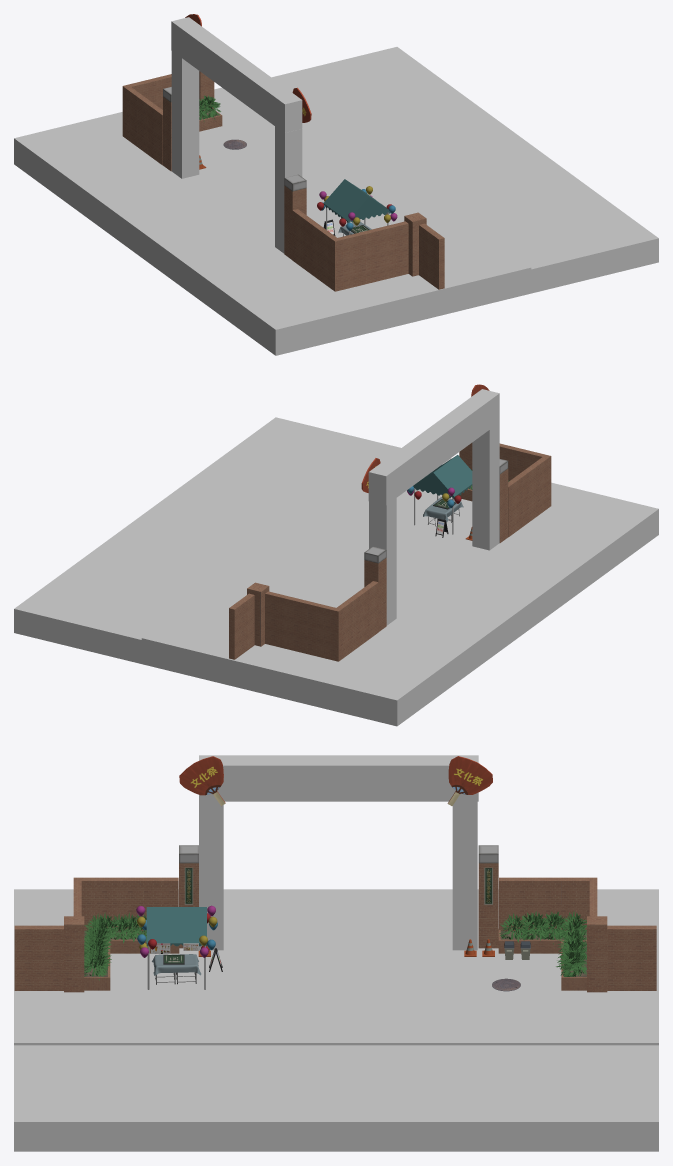
The model's file is school page07.fbx.
3 renders of one model, top to bottom at view 1: azimuth 30°, elevation 25°; view 2: azimuth 150°, elevation 25°; view 3: azimuth 270°, elevation 25°, orthographic. The views are drawn at different scales.
Parts seen in each view (by area): view 1: Cube.096, Cube.028, Cube.004, Cube.026, Cube.017, Cube.020, Cube.025, Cube.006, Cube.041, Cube, Cube.021, Cube.034 (+1 smaller); view 2: Cube.096, Cube.028, Cube.021, Cube.025, Cube.020, Cube.017, Cube.026, Cube.006, Cube.035, Cube.004, Cube.018, Cube.024 (+1 smaller); view 3: Cube.096, Cube.028, Cube.020, Cube.026, Cube.017, Cube.035, Cube.041, Cube.025, Cube.006, Cube.018, Cube.024, Cube.034 (+7 smaller).
Part boxes in pixels (x1=…): Cube.096: x1=14, y1=47, x2=658, y2=355; Cube.028: x1=171, y1=17, x2=302, y2=132; Cube.004: x1=332, y1=221, x2=408, y2=291; Cube.026: x1=171, y1=51, x2=199, y2=178; Cube.017: x1=292, y1=209, x2=336, y2=289; Cube.020: x1=123, y1=86, x2=162, y2=165; Cube.025: x1=275, y1=126, x2=302, y2=253; Cube.006: x1=323, y1=179, x2=390, y2=222; Cube.041: x1=419, y1=223, x2=444, y2=289; Cube: x1=284, y1=186, x2=306, y2=259; Cube.021: x1=122, y1=74, x2=171, y2=135; Cube.034: x1=404, y1=212, x2=426, y2=276; Cube.096: x1=14, y1=417, x2=658, y2=726; Cube.028: x1=368, y1=389, x2=499, y2=505; Cube.021: x1=265, y1=591, x2=340, y2=661; Cube.025: x1=472, y1=422, x2=499, y2=550; Cube.020: x1=334, y1=581, x2=378, y2=661; Cube.017: x1=508, y1=457, x2=547, y2=537; Cube.026: x1=369, y1=498, x2=396, y2=625; Cube.006: x1=413, y1=455, x2=472, y2=498; Cube.035: x1=229, y1=593, x2=254, y2=659; Cube.004: x1=499, y1=443, x2=551, y2=507; Cube.018: x1=364, y1=558, x2=386, y2=631; Cube.024: x1=247, y1=582, x2=269, y2=646; Cube.096: x1=14, y1=889, x2=658, y2=1151; Cube.028: x1=199, y1=755, x2=478, y2=801; Cube.020: x1=499, y1=877, x2=596, y2=930; Cube.026: x1=452, y1=801, x2=477, y2=950; Cube.017: x1=81, y1=877, x2=178, y2=930; Cube.035: x1=607, y1=925, x2=656, y2=990; Cube.041: x1=14, y1=925, x2=63, y2=990; Cube.025: x1=199, y1=801, x2=223, y2=950; Cube.006: x1=146, y1=907, x2=206, y2=946; Cube.018: x1=478, y1=863, x2=498, y2=948; Cube.024: x1=587, y1=916, x2=607, y2=992; Cube.034: x1=64, y1=916, x2=84, y2=992.
Bounding box in the file's own units: 1514 × 695 × 1792.
